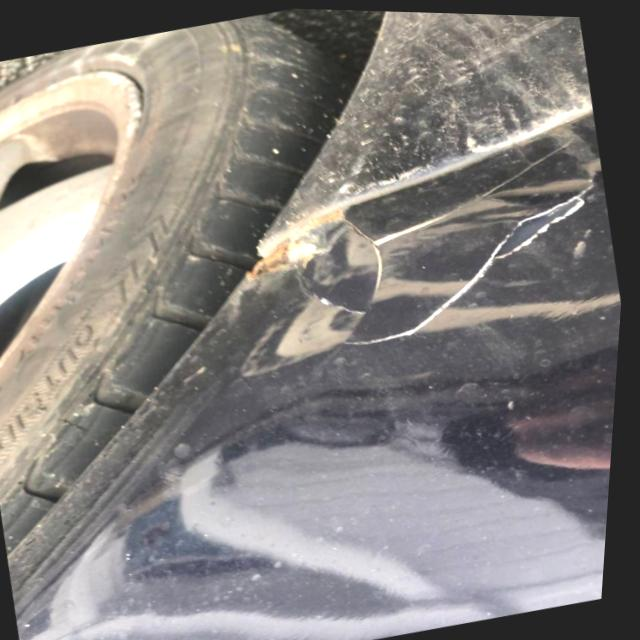Paint-Crack: (327, 131, 580, 315)
Rust: (237, 198, 353, 287)
Scratch: (335, 178, 594, 350)
